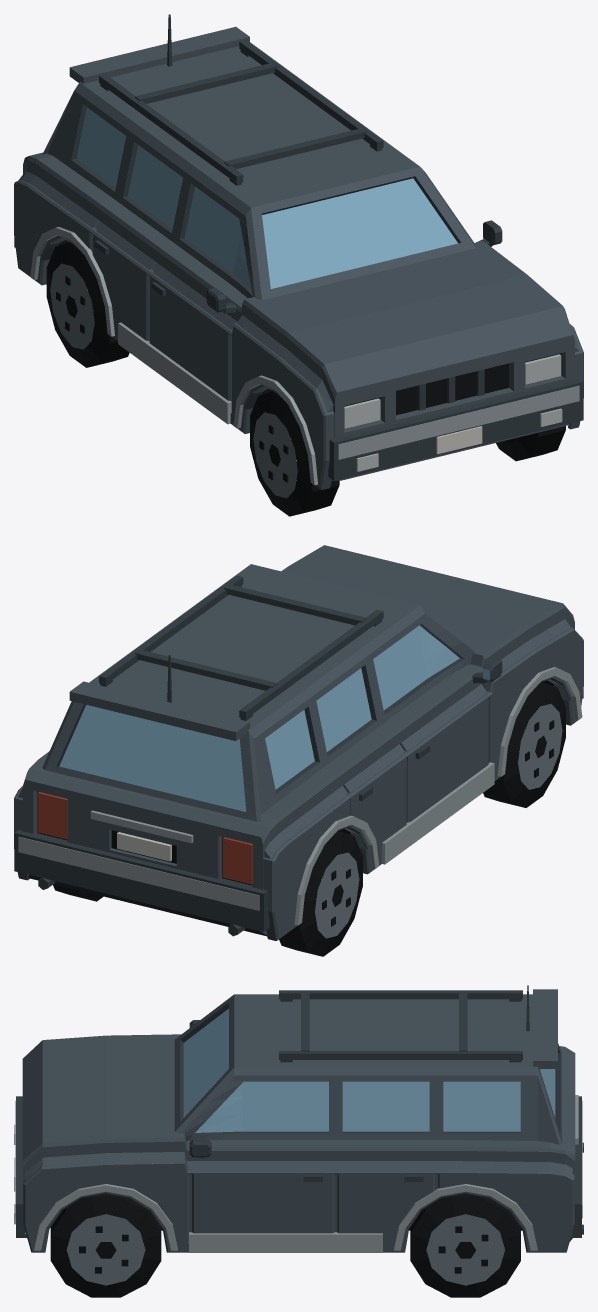
The model's file is suv.glb.
3 views of the same model, one above another, from view 1: azimuth 30°, elevation 25°; view 2: azimuth 150°, elevation 25°; view 3: azimuth 270°, elevation 25° (orthographic). The views are drawn at different scales.
Parts seen in each view (by area): view 1: family-crossover-suv, wheel-fr, wheel-rr, wheel-fl; view 2: family-crossover-suv, wheel-rr, wheel-fr; view 3: family-crossover-suv, wheel-fl, wheel-rl.
Boxes of the visible parts, box(x1,y1,x2,y2) form: family-crossover-suv: box(14, 14, 583, 489); wheel-fr: box(250, 391, 339, 516); wheel-rr: box(46, 242, 129, 367); wheel-fl: box(496, 426, 565, 461); family-crossover-suv: box(14, 545, 583, 940); wheel-rr: box(279, 831, 362, 956); wheel-fr: box(483, 682, 565, 807); family-crossover-suv: box(14, 985, 583, 1252); wheel-fl: box(50, 1193, 161, 1297); wheel-rl: box(410, 1193, 520, 1297).
Size of the model in its own units: 2.35 by 2.28 by 4.58.
